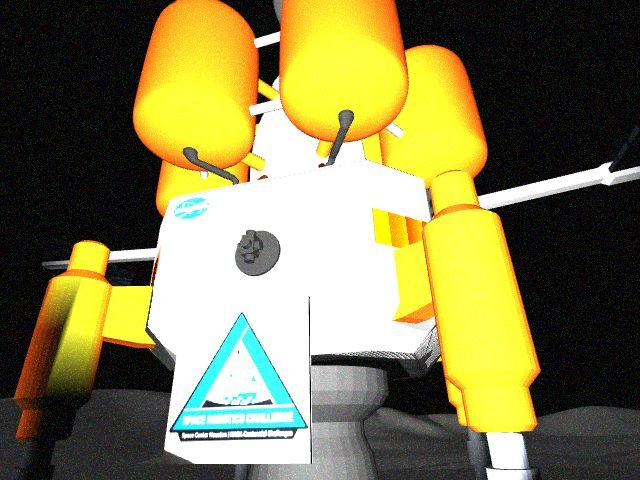basemarker: (167, 310, 310, 443)
